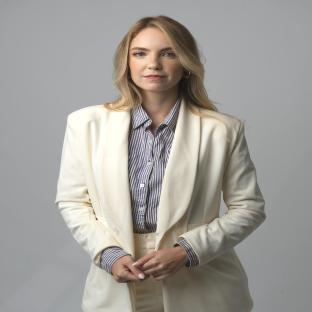Human: (56, 16, 266, 312)
